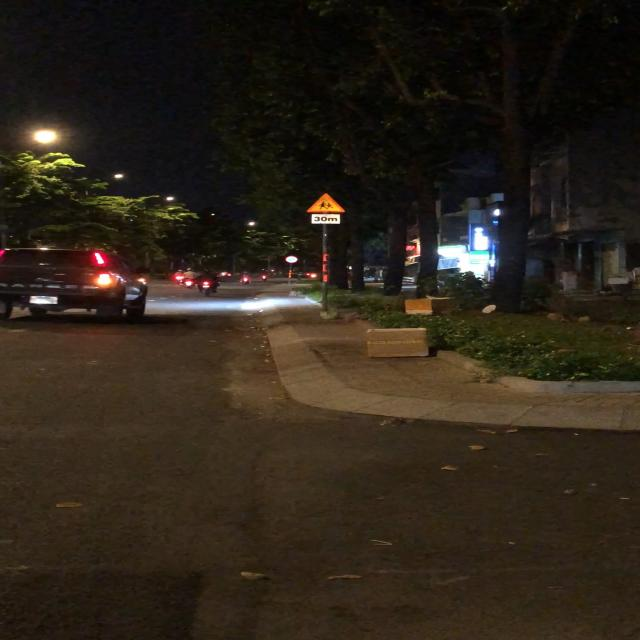Bien bao tre em: (304, 192, 349, 214)
